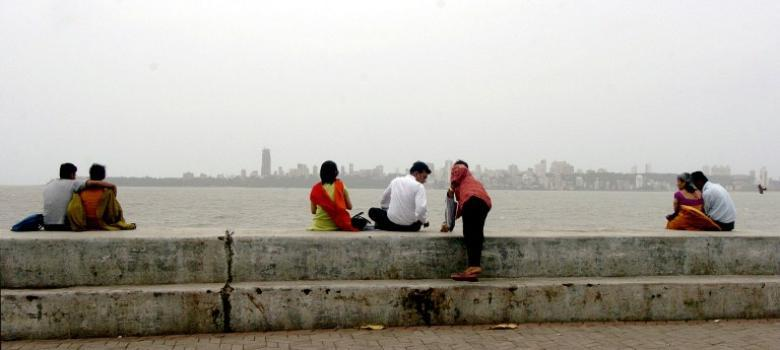backpack: (65, 165, 125, 233), (307, 161, 359, 233), (375, 165, 428, 233), (667, 177, 721, 231), (694, 172, 737, 231), (62, 176, 106, 225), (75, 182, 117, 229), (440, 164, 463, 235), (82, 195, 129, 227), (101, 192, 135, 230), (363, 208, 414, 232), (65, 187, 87, 231), (97, 189, 122, 226), (351, 210, 392, 232), (443, 183, 459, 232), (335, 212, 374, 232), (10, 214, 45, 232), (369, 209, 394, 230), (65, 192, 82, 220), (449, 191, 461, 227), (351, 213, 370, 231), (379, 184, 392, 210), (110, 221, 137, 231)
baseball bat: (443, 190, 458, 233)
baseball glove: (443, 183, 459, 232), (351, 213, 370, 231), (110, 221, 137, 231)
bed: (152, 212, 721, 348), (316, 165, 433, 237)
bench: (152, 212, 721, 348), (13, 222, 492, 344), (371, 229, 773, 333), (316, 165, 433, 237), (307, 163, 376, 232), (62, 176, 136, 235), (676, 174, 739, 233)
bird: (307, 162, 369, 233), (676, 172, 732, 233), (106, 216, 136, 231), (114, 221, 136, 231)
boat: (3, 141, 770, 334), (0, 216, 533, 347), (291, 179, 462, 258), (304, 161, 427, 236), (51, 170, 135, 236), (666, 171, 735, 233), (758, 167, 767, 195), (114, 221, 136, 231)
car: (62, 165, 130, 233)
cat: (114, 221, 136, 231)
chair: (65, 170, 129, 231), (663, 173, 722, 232), (686, 173, 733, 229), (443, 188, 458, 233)
couch: (152, 212, 721, 348)
dog: (307, 162, 369, 233), (65, 168, 129, 234), (373, 162, 430, 234), (367, 208, 423, 232), (105, 199, 136, 232), (351, 210, 392, 232), (106, 216, 136, 231), (351, 213, 373, 231), (114, 221, 136, 231)
frisbee: (110, 221, 137, 231)
handbag: (65, 165, 125, 233), (683, 177, 730, 232), (50, 170, 83, 232), (71, 178, 107, 231), (440, 164, 463, 235), (84, 188, 121, 225), (101, 194, 133, 231), (351, 210, 392, 232), (65, 190, 86, 230), (443, 183, 459, 232), (335, 212, 374, 232), (102, 191, 121, 225), (10, 214, 45, 232), (440, 197, 454, 233), (449, 191, 461, 227), (351, 213, 370, 231), (379, 184, 392, 210), (110, 218, 136, 230)
horse: (65, 166, 134, 233)
kite: (65, 166, 134, 233)
motorcycle: (62, 165, 130, 233)
person: (280, 181, 453, 256), (319, 167, 441, 240), (666, 165, 760, 235), (307, 162, 393, 234), (30, 164, 115, 232), (389, 163, 472, 231), (445, 161, 492, 280), (10, 162, 77, 233), (65, 164, 130, 233), (373, 162, 430, 234), (439, 159, 480, 250), (355, 177, 414, 232), (306, 160, 352, 228), (679, 172, 732, 231), (41, 164, 81, 230), (400, 161, 438, 229), (88, 179, 136, 232), (666, 173, 712, 228), (77, 171, 115, 230), (64, 171, 99, 231), (85, 163, 124, 214), (376, 166, 410, 223), (667, 199, 720, 232), (70, 200, 123, 232), (701, 177, 735, 224), (439, 168, 461, 234), (8, 209, 70, 232), (366, 208, 422, 232), (664, 175, 690, 226), (691, 174, 716, 221), (447, 169, 466, 227), (676, 173, 705, 209), (105, 197, 135, 231), (65, 186, 87, 231), (351, 210, 392, 232), (449, 161, 469, 206), (378, 174, 400, 209), (103, 191, 124, 226), (690, 172, 709, 207), (442, 190, 457, 233), (10, 214, 45, 232), (110, 212, 137, 232), (448, 189, 461, 229), (409, 162, 431, 184), (687, 173, 705, 197), (674, 174, 689, 200), (676, 172, 693, 193), (379, 184, 392, 210), (59, 163, 77, 180), (88, 164, 105, 182), (114, 221, 136, 231)
sheep: (65, 166, 134, 233), (670, 175, 732, 231), (113, 216, 136, 231)
skateboard: (351, 210, 392, 232), (443, 188, 458, 233), (352, 213, 374, 231), (104, 220, 137, 231)
snowboard: (357, 208, 409, 232), (443, 183, 459, 232), (110, 221, 137, 231)
suitcase: (357, 208, 409, 232), (351, 213, 373, 231)
surfboard: (306, 199, 428, 247), (51, 170, 135, 236), (307, 163, 376, 232), (676, 174, 739, 233), (667, 199, 720, 232), (663, 178, 686, 229), (443, 191, 458, 234), (106, 216, 136, 231), (449, 191, 461, 227), (119, 217, 138, 230), (114, 221, 136, 231)
tennis racket: (443, 190, 458, 233)
tie: (443, 188, 458, 233), (103, 192, 119, 225), (99, 190, 112, 223)
umbrella: (65, 166, 134, 233), (684, 172, 735, 232), (443, 190, 457, 233), (117, 216, 136, 231)
